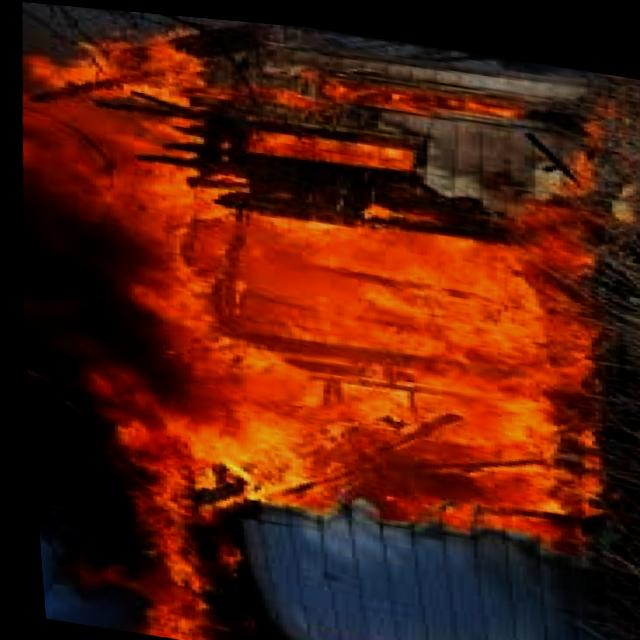Fire: (1, 11, 629, 640)
Smoke: (10, 175, 196, 605)
